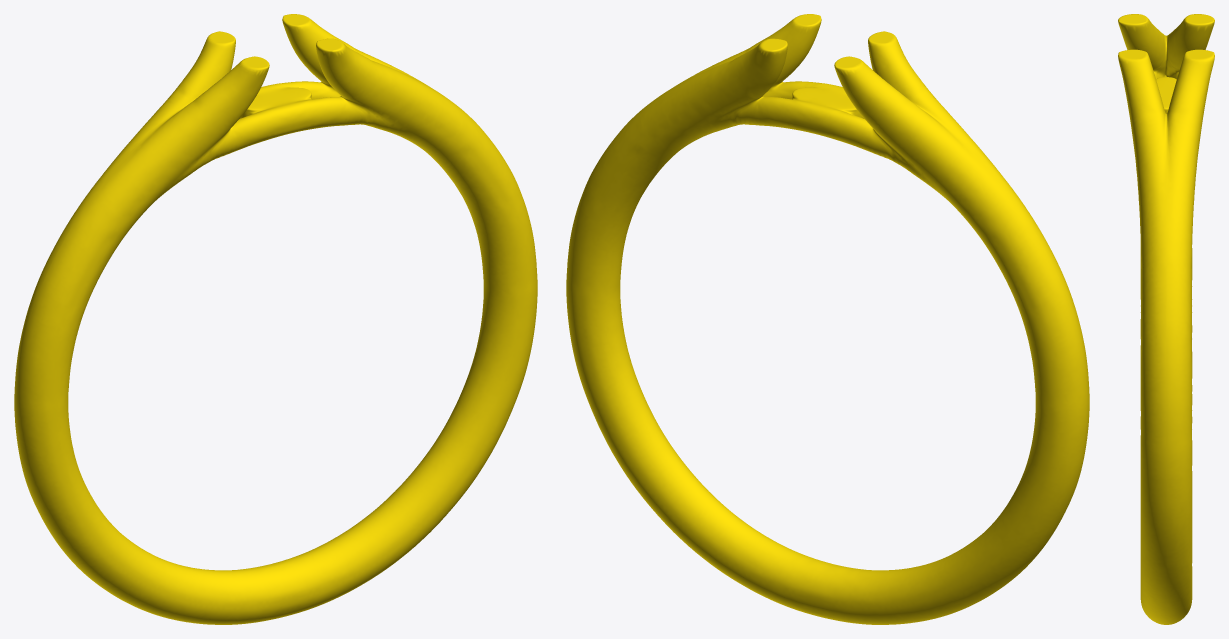
File: Shank_Split_Plain Gold_A_No, Hidden Halo_Band.glb
3 views of the same model, side by side, from view 1: azimuth 30°, elevation 25°; view 2: azimuth 150°, elevation 25°; view 3: azimuth 270°, elevation 25° (orthographic). The views are drawn at different scales.
Size of the model in its own units: 0.0212 by 0.0225 by 0.00352.
